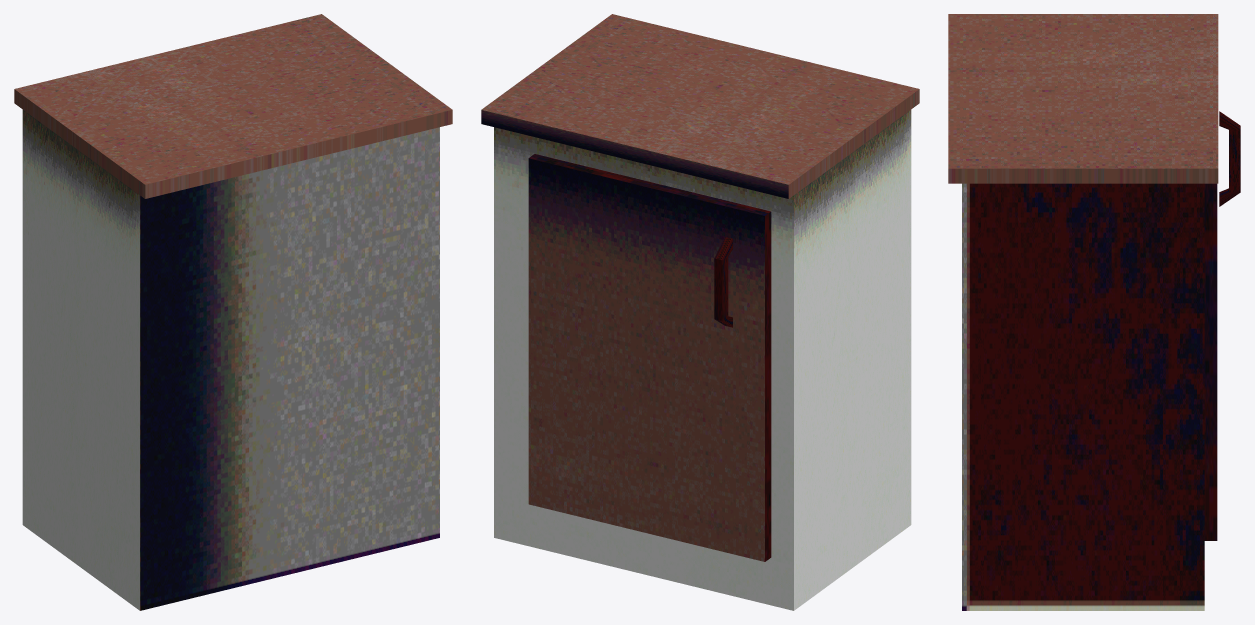
Rendered from StandardCabinet.obj.
The picture shows the model from 3 angles, left to right: view 1: azimuth 30°, elevation 25°; view 2: azimuth 150°, elevation 25°; view 3: azimuth 270°, elevation 25°; orthographic projection. The views are drawn at different scales.
Parts seen in each view (by area): view 1: Cube.038; view 2: Cube.038; view 3: Cube.038.
Boxes of the visible parts, <box> form: Cube.038: <box>14,14,452,610</box>; Cube.038: <box>481,14,919,610</box>; Cube.038: <box>948,14,1240,610</box>.
Bounding box in the file's own units: 1.65 × 2.21 × 1.32.
